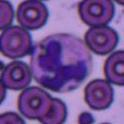N: (32, 32, 93, 92)
